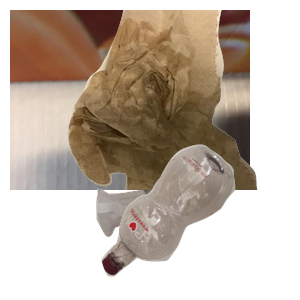cardboard: (10, 10, 250, 190)
glass: (94, 184, 253, 300)
plastic: (99, 142, 300, 300)
trash: (65, 10, 300, 190)
